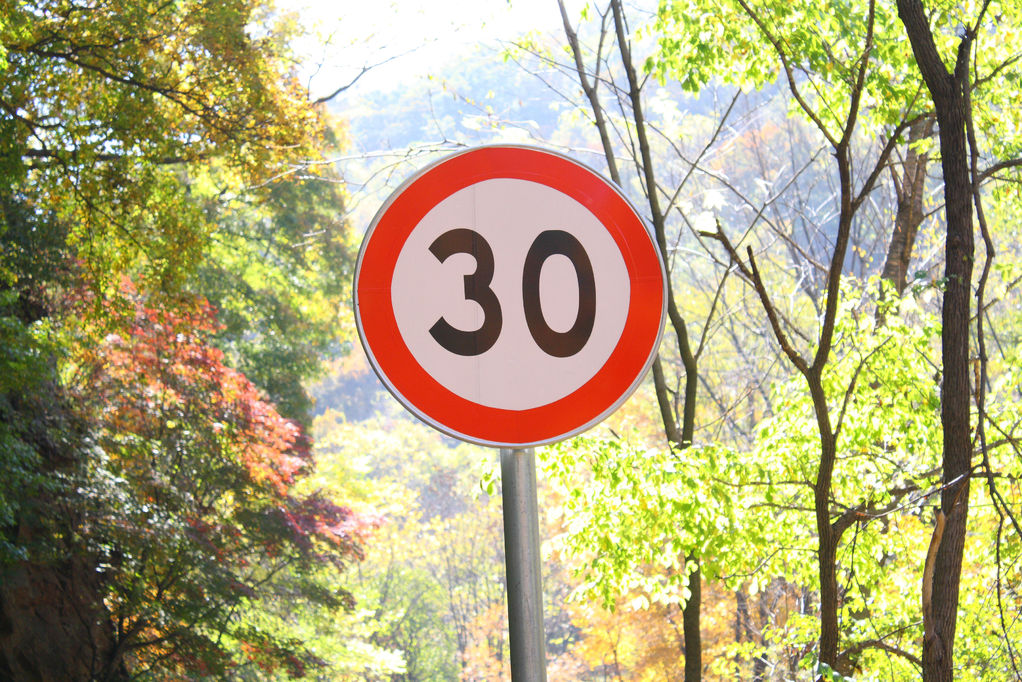Speed_limit_30km: (348, 141, 671, 447)
